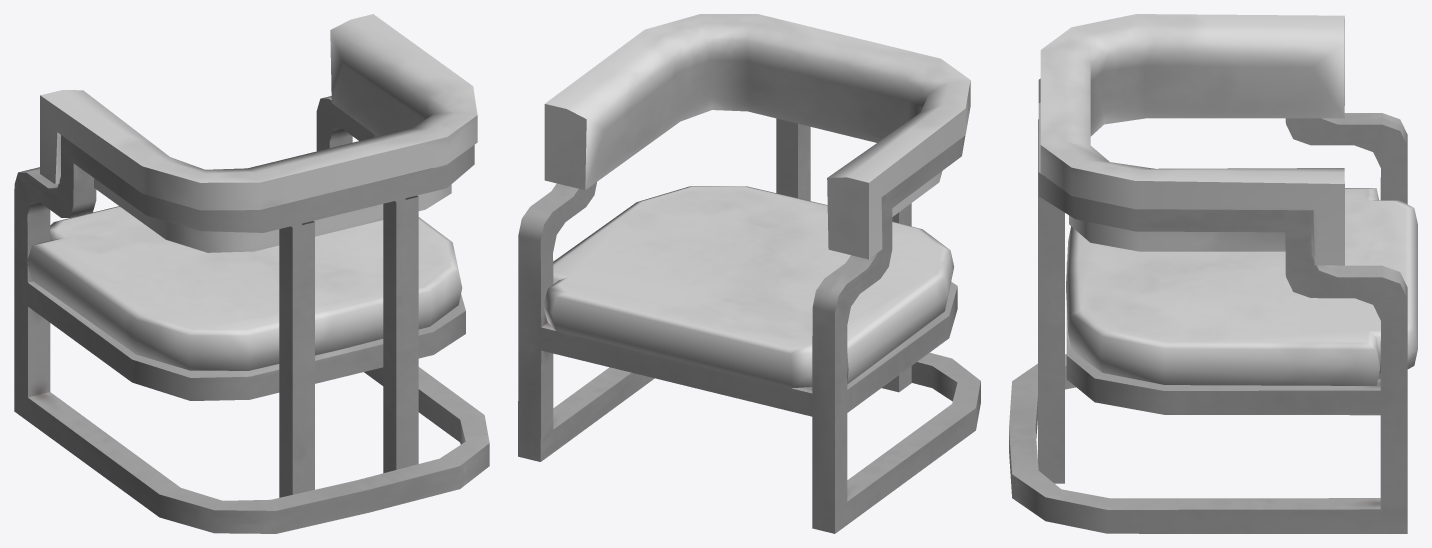
Rendered from Pfb_Chair__6.fbx.
3 renders of one model, left to right at view 1: azimuth 30°, elevation 25°; view 2: azimuth 150°, elevation 25°; view 3: azimuth 270°, elevation 25°, orthographic. The views are drawn at different scales.
Parts seen in each view (by area): view 1: Mat_Chair_03Grey_M; view 2: Mat_Chair_03Grey_M; view 3: Mat_Chair_03Grey_M.
Boxes of the visible parts, x1=… form: Mat_Chair_03Grey_M: x1=14, y1=14, x2=489, y2=533; Mat_Chair_03Grey_M: x1=518, y1=14, x2=980, y2=533; Mat_Chair_03Grey_M: x1=1009, y1=14, x2=1417, y2=533.
Bounding box in the file's own units: 0.8497 × 0.8332 × 0.8725.
Materials: 1 (1 with a texture image).
